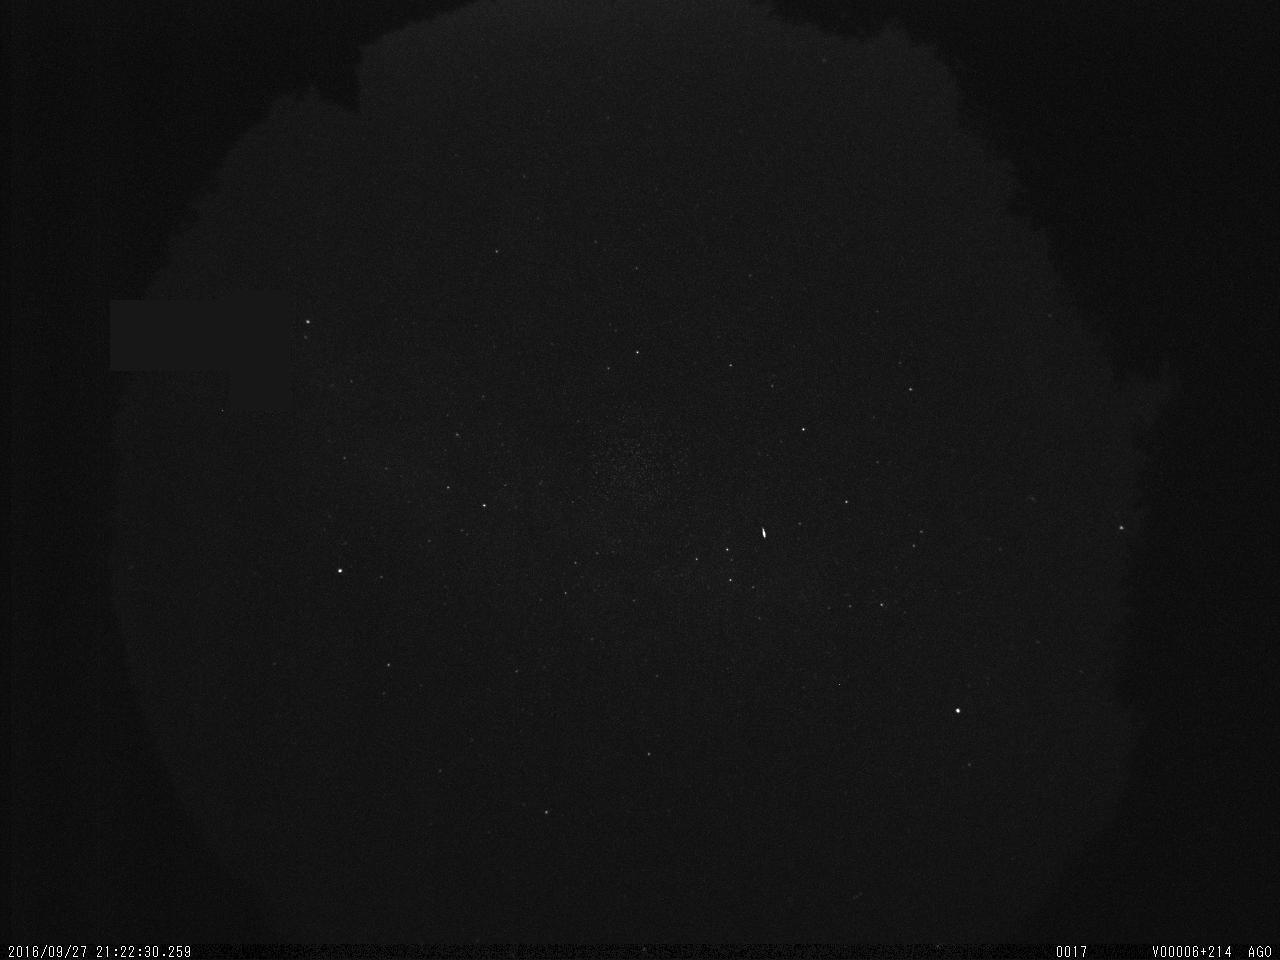meteor: (756, 523, 773, 545)
